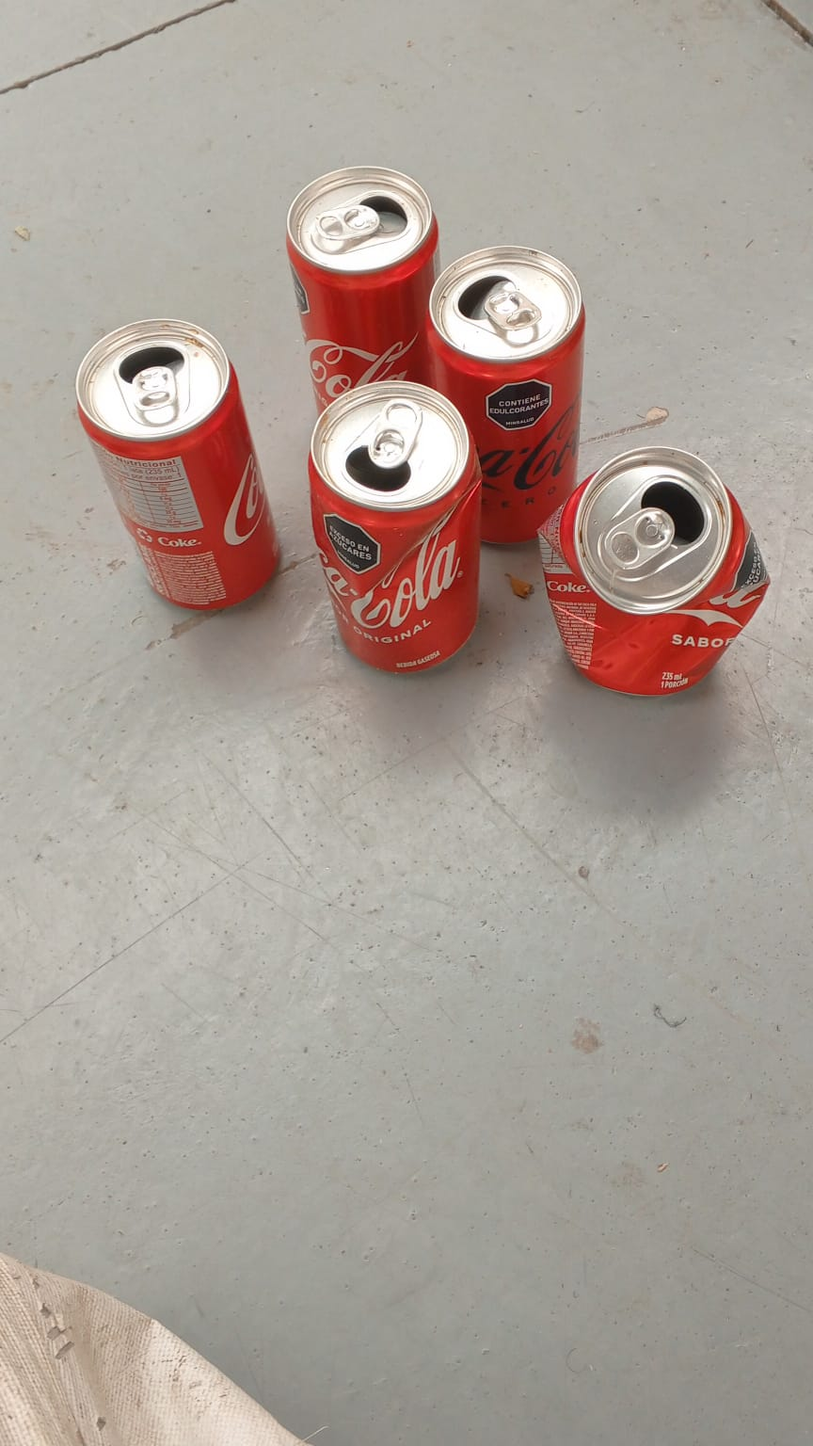Metal: (290, 167, 581, 674), (73, 311, 284, 623), (542, 450, 772, 704)
